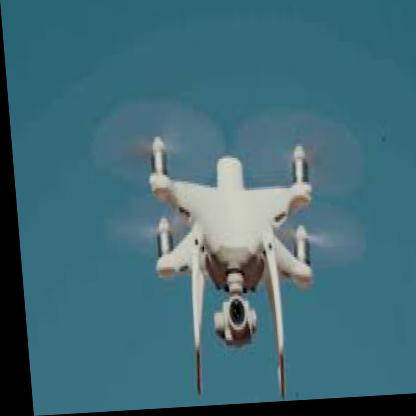UAS: (144, 129, 323, 407)
